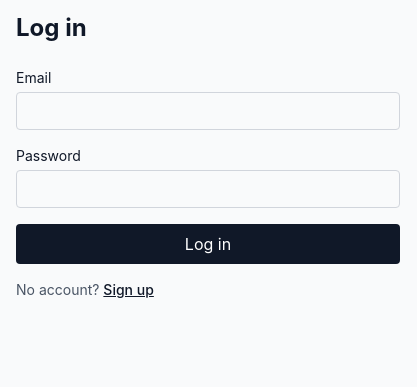
Scenario: LoginPage › shows a verify-email link when login is blocked for an unverified account
Type "unverified@berea.edu" into the field labelled "Email".
click(208, 111); type("unverified@berea.edu")  # box [16, 92, 400, 130]
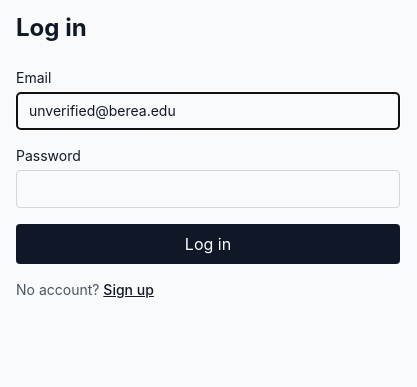
Type "secretpass123" into the password field labelled "Password".
click(208, 189); type("secretpass123")  # box [16, 170, 400, 208]
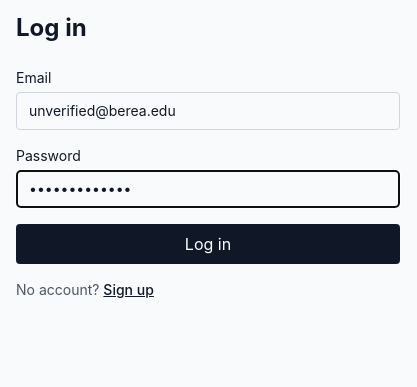
Click the button "Log in".
click(208, 244)  # box [16, 224, 400, 264]
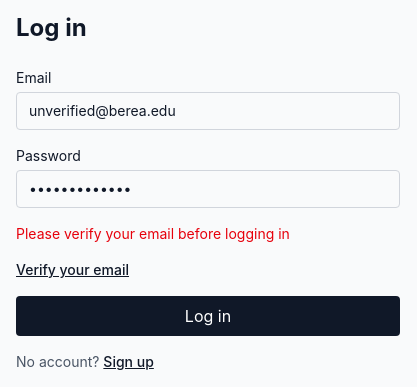
Expected: the text "Please verify your email before logging in" is shown, [16, 225, 290, 242]
